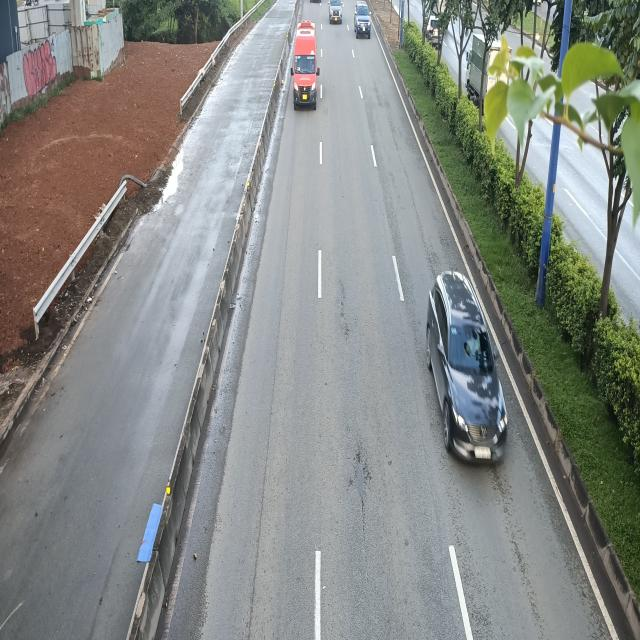car: (425, 268, 506, 464), (354, 3, 372, 39)
van: (290, 20, 319, 109)
